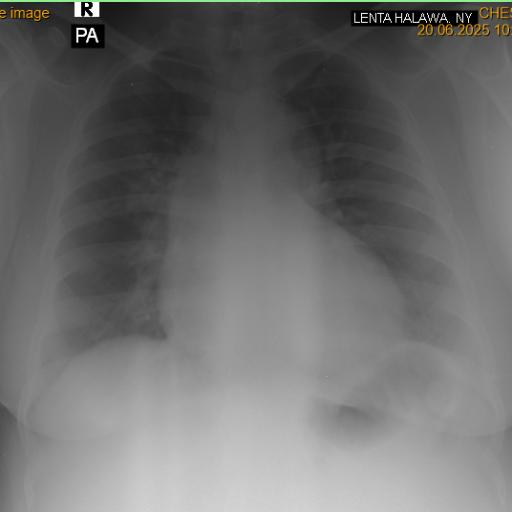kardiomegali: (24, 22, 498, 422)
